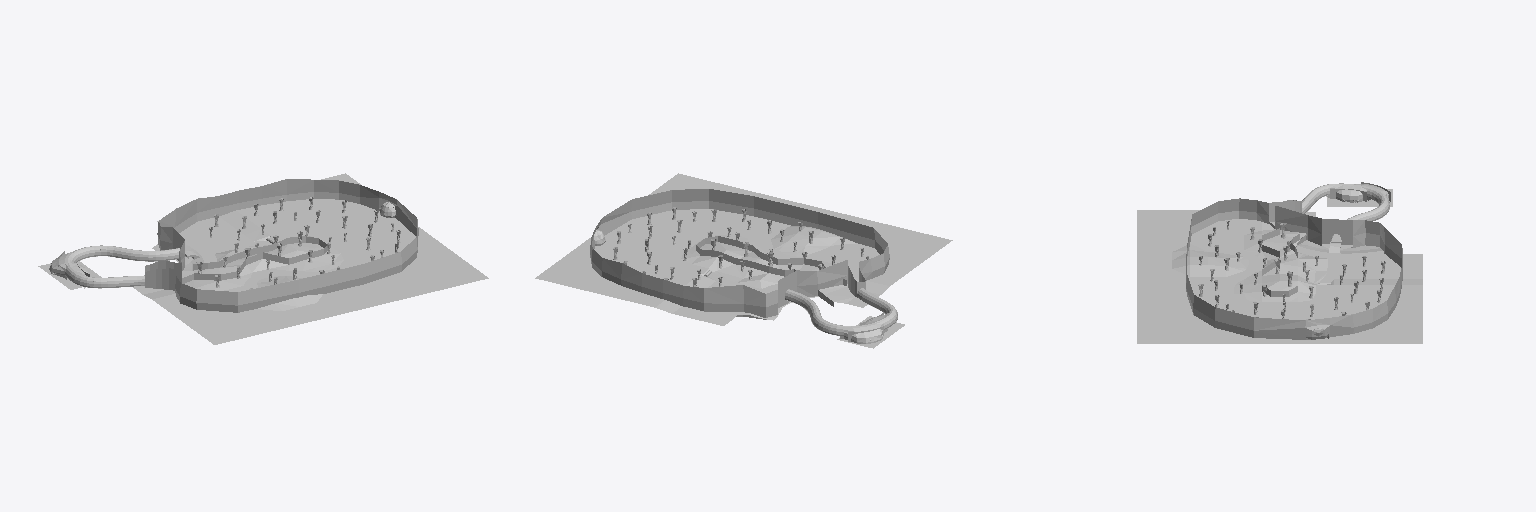
The model's file is cotton.obj.
The picture shows the model from 3 angles: view 1: azimuth 30°, elevation 25°; view 2: azimuth 150°, elevation 25°; view 3: azimuth 270°, elevation 25°; orthographic projection.
Visible parts, largest first — view 1: wall_0c_F002c, offroad_03_F0083, fall_0a_F010a, wall_0c_F006c, wall_0c_F806c, road_00_F0040; view 2: wall_0c_F002c, offroad_03_F0083, fall_0a_F010a, wall_0c_F006c, road_00_F0040, wall_0c_F806c; view 3: offroad_03_F0083, wall_0c_F002c, fall_0a_F010a, road_00_F0040, wall_0c_F006c, wall_0c_F806c, offroad_01_F0021.
Boxes of the visible parts, x1,y1,x2,y2 form: wall_0c_F002c: [49, 179, 418, 312]; offroad_03_F0083: [161, 199, 434, 323]; fall_0a_F010a: [84, 173, 488, 344]; wall_0c_F006c: [185, 197, 400, 289]; wall_0c_F806c: [182, 236, 327, 283]; road_00_F0040: [210, 227, 364, 291]; wall_0c_F002c: [590, 189, 897, 343]; offroad_03_F0083: [570, 209, 907, 319]; fall_0a_F010a: [535, 173, 952, 325]; wall_0c_F006c: [613, 207, 868, 286]; road_00_F0040: [660, 227, 858, 290]; wall_0c_F806c: [696, 236, 846, 285]; offroad_03_F0083: [1172, 218, 1404, 343]; wall_0c_F002c: [1186, 183, 1402, 339]; fall_0a_F010a: [1137, 196, 1422, 343]; road_00_F0040: [1223, 227, 1338, 308]; wall_0c_F006c: [1198, 221, 1385, 319]; wall_0c_F806c: [1262, 228, 1299, 296]; offroad_01_F0021: [1296, 245, 1385, 258].
Size of the model in its own units: 103787 by 9808 by 79776.